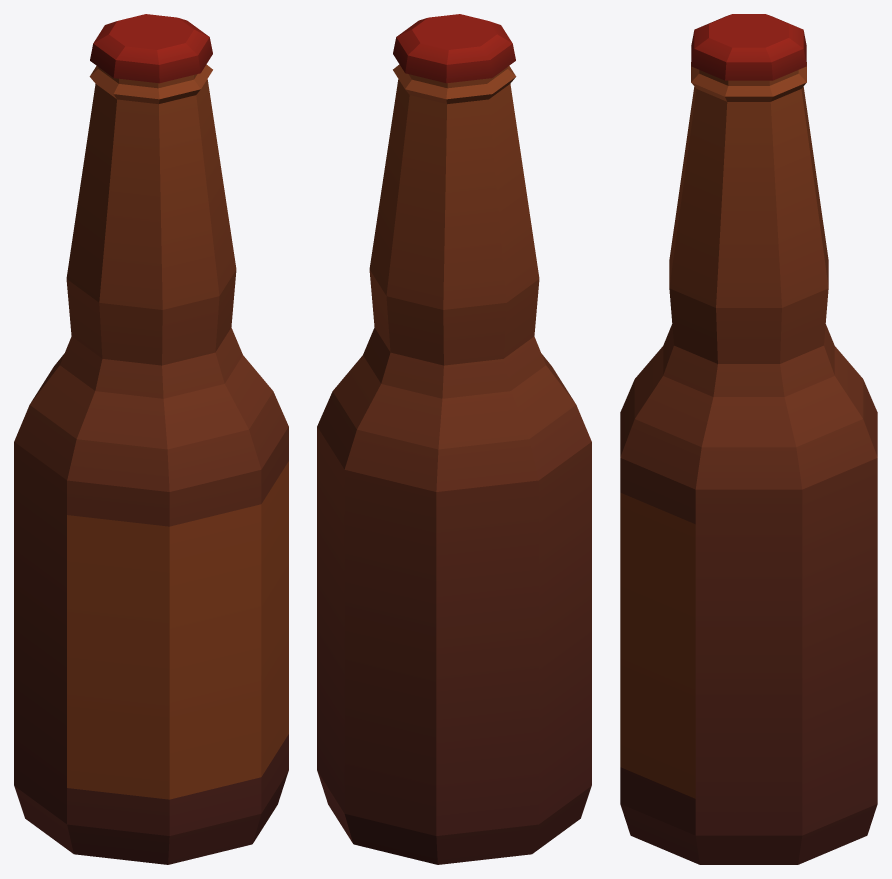
File: Prop_Beer_Bottle_03.obj
The picture shows the model from 3 angles, left to right: view 1: azimuth 30°, elevation 25°; view 2: azimuth 150°, elevation 25°; view 3: azimuth 270°, elevation 25°; orthographic projection.
Visible parts, largest first — view 1: Prop_Beer_Bottle_03; view 2: Prop_Beer_Bottle_03; view 3: Prop_Beer_Bottle_03.
Boxes of the visible parts, x1,y1,x2,y2 form: Prop_Beer_Bottle_03: (14, 14, 288, 864); Prop_Beer_Bottle_03: (317, 14, 591, 864); Prop_Beer_Bottle_03: (620, 14, 877, 864).
Bounding box in the file's own units: 0.067 × 0.228 × 0.067.
1 material, 1 textured.
